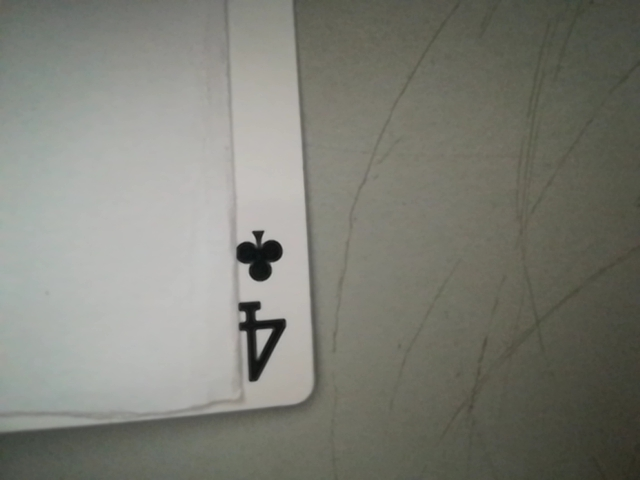mh 4: (219, 219, 308, 400)
